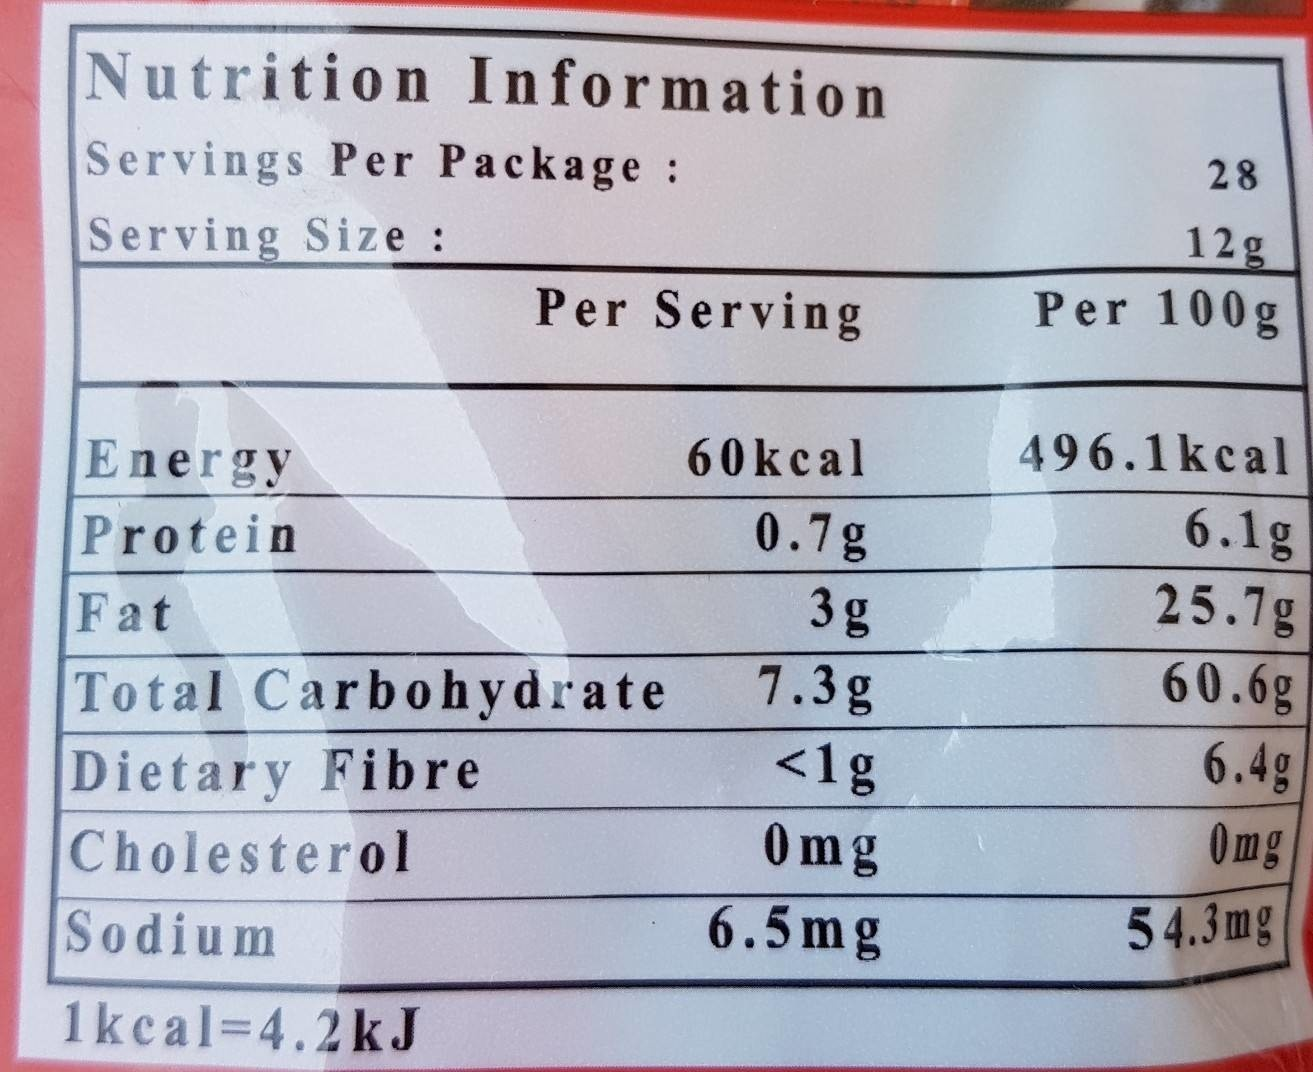column: (58, 286, 894, 967), (1012, 285, 1293, 973)
table: (40, 19, 1308, 1009)
